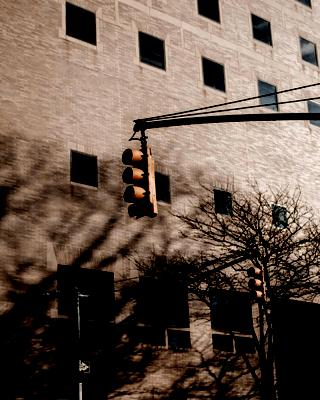International Road Signal Light: (120, 139, 161, 223)
